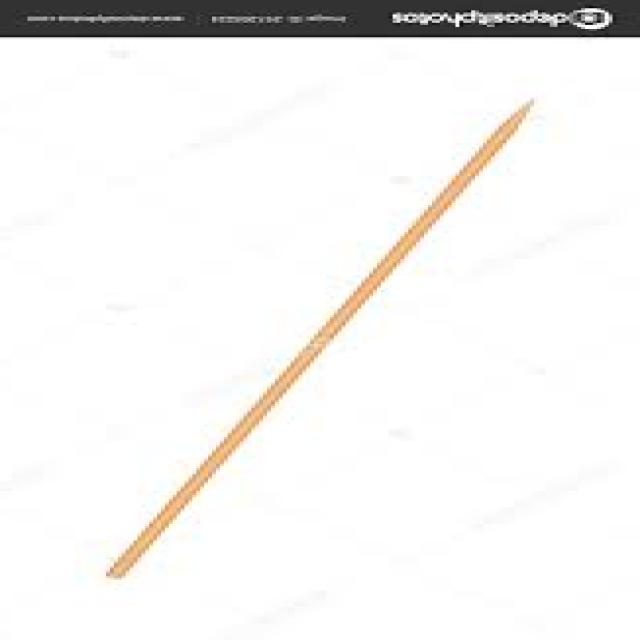stick: (114, 102, 529, 579)
